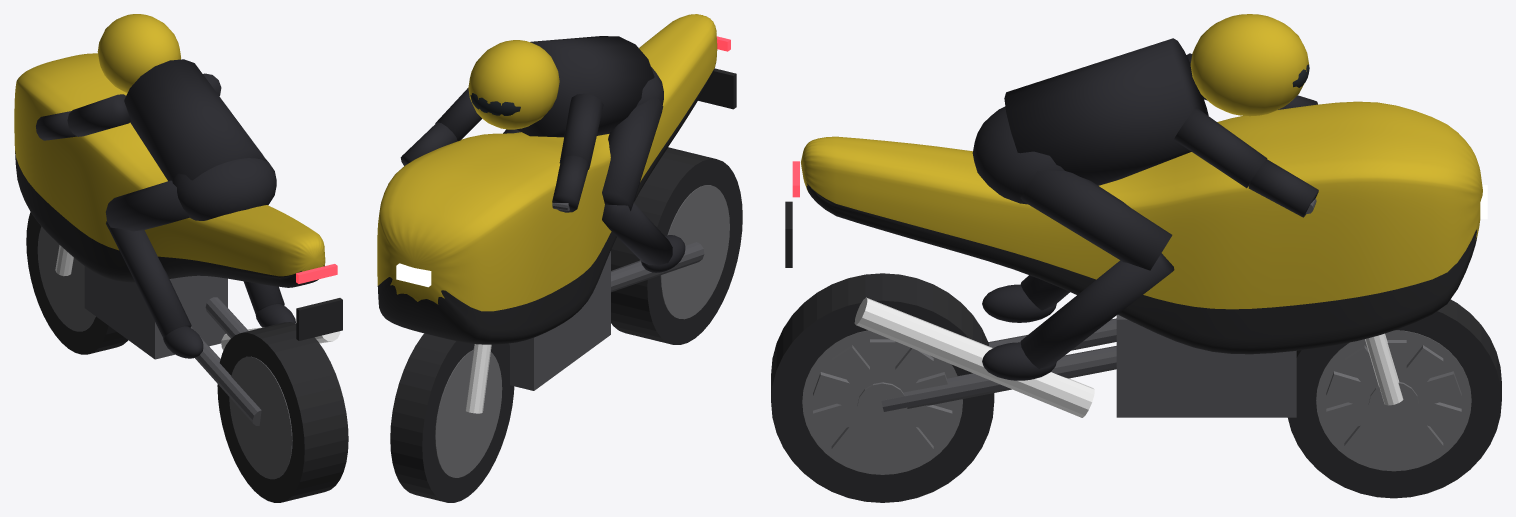
Rendered from moto.glb.
The picture shows the model from 3 angles, left to right: view 1: azimuth 30°, elevation 25°; view 2: azimuth 150°, elevation 25°; view 3: azimuth 270°, elevation 25°; orthographic projection. The views are drawn at different scales.
Visible parts, largest first — view 1: carroceria.002, det_st_traje, rueda_T, det_st_motor, rueda_D, det_st_casco, det_st_plastico.002, det_st_cromo.002, det_st_luz_roja.002; view 2: carroceria.002, det_st_traje, rueda_T, rueda_D, det_st_motor, det_st_casco, det_st_cromo.002, det_st_plastico.002, det_st_luz_blanca.002, det_st_cristal; view 3: carroceria.002, det_st_traje, rueda_T, rueda_D, det_st_motor, det_st_casco, det_st_cromo.002.
Boxes of the visible parts, x1,y1,x2,y2 form: carroceria.002: [14, 53, 325, 287]; det_st_traje: [36, 59, 295, 358]; rueda_T: [217, 322, 348, 502]; det_st_motor: [84, 266, 261, 425]; rueda_D: [26, 212, 128, 354]; det_st_casco: [97, 14, 180, 93]; det_st_plastico.002: [296, 298, 342, 340]; det_st_cromo.002: [55, 245, 340, 350]; det_st_luz_roja.002: [296, 264, 337, 283]; carroceria.002: [377, 14, 717, 344]; det_st_traje: [400, 36, 685, 272]; rueda_T: [611, 147, 742, 344]; rueda_D: [390, 333, 514, 502]; det_st_motor: [509, 203, 704, 390]; det_st_casco: [468, 40, 559, 129]; det_st_cromo.002: [465, 344, 491, 413]; det_st_plastico.002: [698, 68, 736, 109]; det_st_luz_blanca.002: [396, 263, 431, 287]; det_st_cristal: [470, 93, 520, 115]; carroceria.002: [801, 101, 1482, 354]; det_st_traje: [972, 38, 1318, 380]; rueda_T: [771, 273, 994, 502]; rueda_D: [1288, 299, 1501, 498]; det_st_motor: [881, 198, 1316, 417]; det_st_casco: [1190, 14, 1309, 116]; det_st_cromo.002: [854, 297, 1403, 417].
Bounding box in the file's own units: 0.6638 × 1.44 × 2.03.
